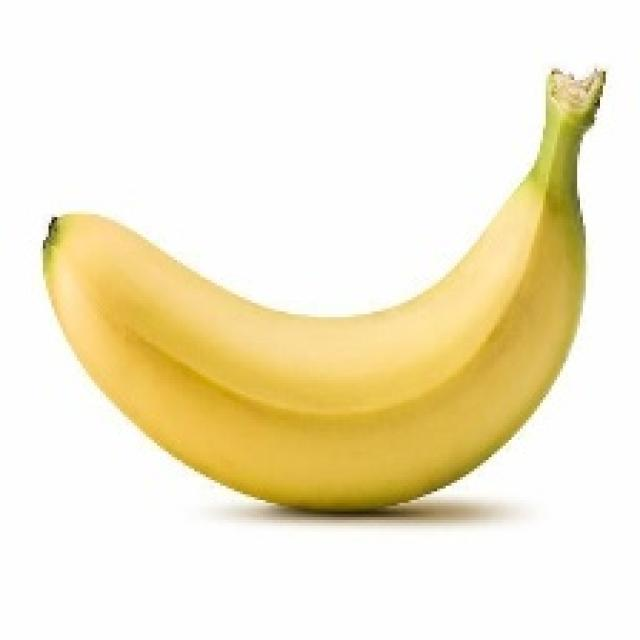Banana: (40, 63, 606, 511)
